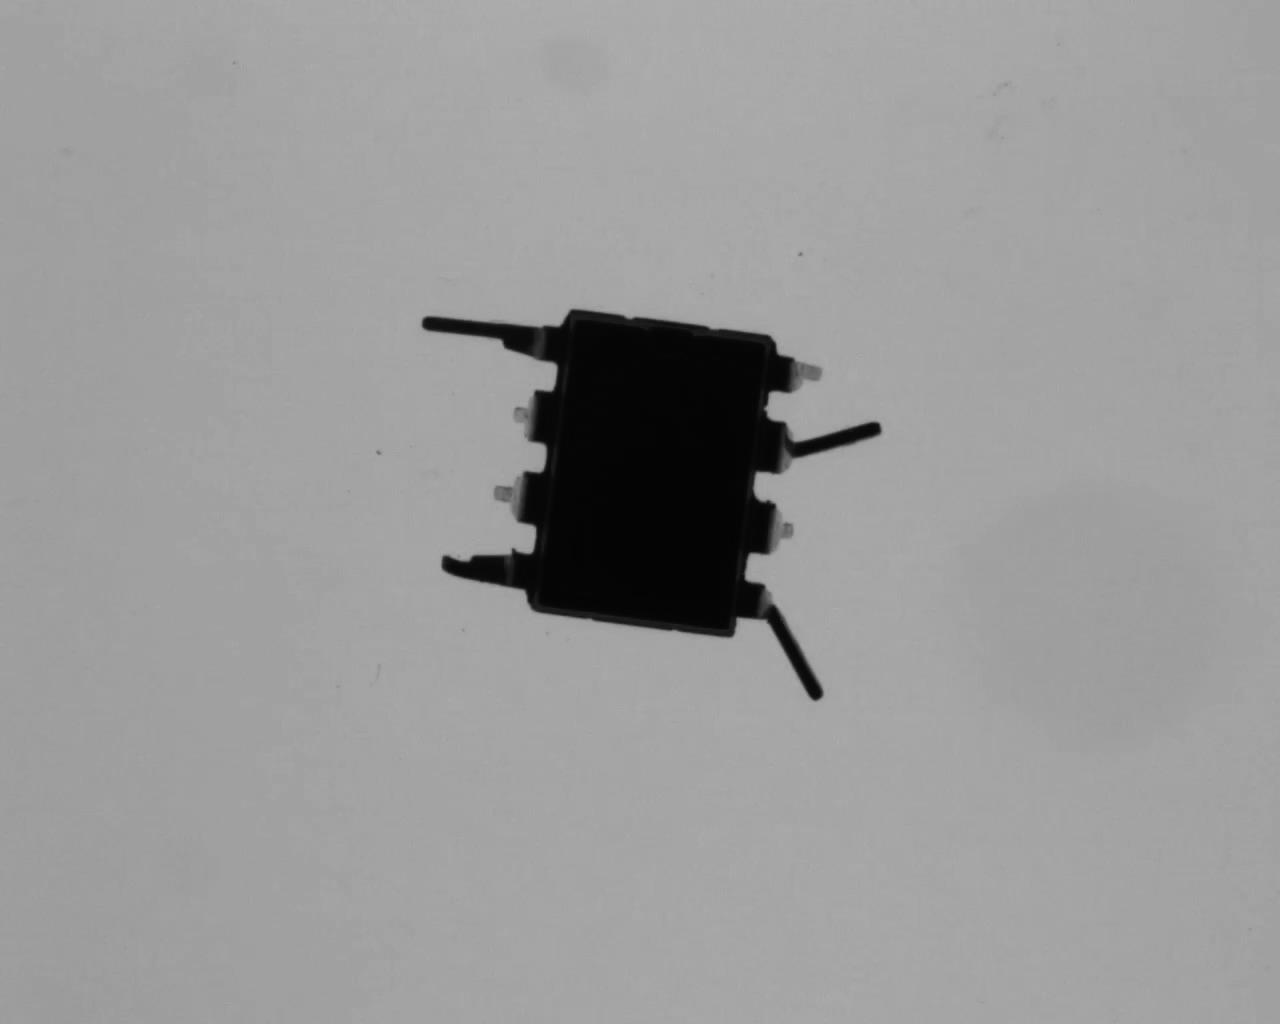Leg: (735, 579, 825, 703), (414, 307, 563, 369), (766, 414, 887, 471), (425, 544, 543, 596), (746, 489, 805, 568), (478, 460, 557, 517), (761, 347, 831, 412), (493, 393, 571, 448)
